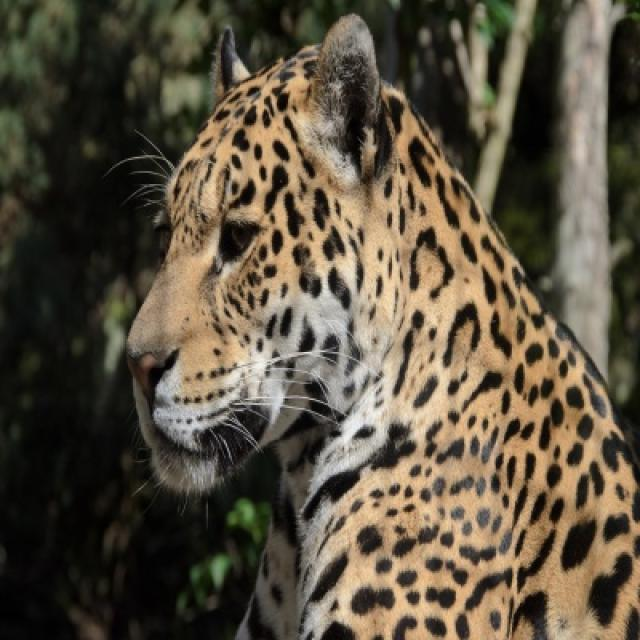Jaguar: (123, 14, 638, 638)
